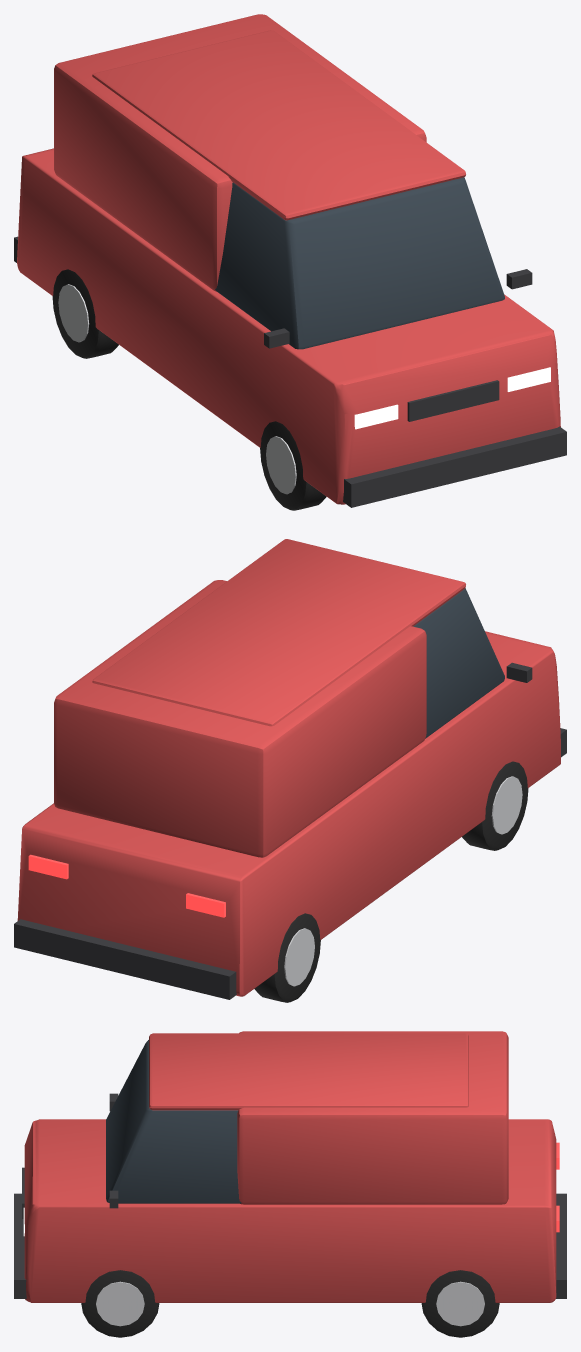
The model's file is car_van.glb.
3 renders of one model, top to bottom at view 1: azimuth 30°, elevation 25°; view 2: azimuth 150°, elevation 25°; view 3: azimuth 270°, elevation 25°, orthographic. The views are drawn at different scales.
Visible parts, largest first — view 1: body, wheel_rr, wheel_fr; view 2: body, wheel_fr, wheel_rr; view 3: body, wheel_fl, wheel_rl.
Boxes of the visible parts, x1,y1,x2,y2 form: body: [14, 14, 566, 507]; wheel_rr: [52, 269, 118, 358]; wheel_fr: [260, 421, 326, 510]; body: [14, 539, 566, 999]; wheel_fr: [462, 761, 528, 850]; wheel_rr: [254, 913, 320, 1002]; body: [14, 1031, 566, 1302]; wheel_fl: [81, 1270, 159, 1337]; wheel_rl: [421, 1270, 499, 1337].
Size of the model in its own units: 2.34 by 2.34 by 5.2.
